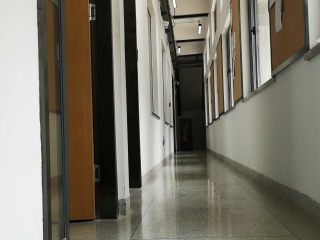room: (34, 1, 123, 234)
